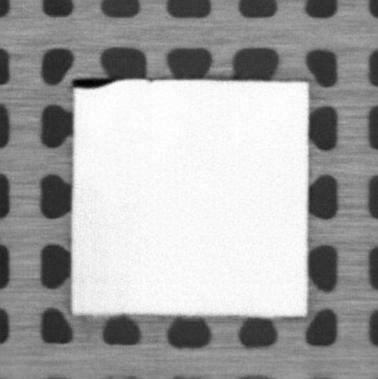DIE_BROKEN: (70, 76, 116, 89)
